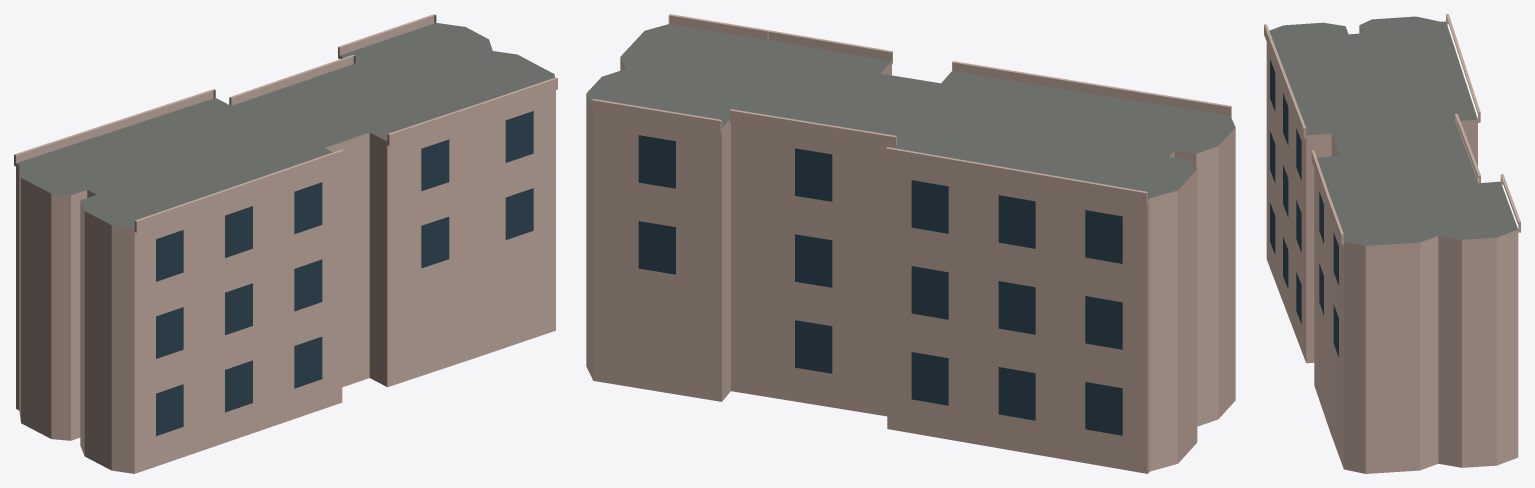
The picture shows the model from 3 angles, left to right: view 1: azimuth 30°, elevation 25°; view 2: azimuth 150°, elevation 25°; view 3: azimuth 270°, elevation 25°; orthographic projection. The views are drawn at different scales.
Visible parts, largest first — view 1: Footprint 0 / surface 2, Footprint 0 / surface 1, Inset glazing, Facade bay volumes; view 2: Footprint 0 / surface 2, Footprint 0 / surface 1, Inset glazing, Facade bay volumes; view 3: Footprint 0 / surface 2, Footprint 0 / surface 1, Inset glazing, Facade bay volumes.
Boxes of the visible parts, bbox=[...] form: Footprint 0 / surface 2: bbox=[16, 56, 555, 473]; Footprint 0 / surface 1: bbox=[16, 23, 554, 228]; Inset glazing: bbox=[156, 111, 533, 436]; Facade bay volumes: bbox=[14, 14, 557, 232]; Footprint 0 / surface 2: bbox=[586, 57, 1235, 473]; Footprint 0 / surface 1: bbox=[586, 24, 1235, 200]; Inset glazing: bbox=[638, 135, 1122, 435]; Facade bay volumes: bbox=[592, 14, 1231, 205]; Footprint 0 / surface 2: bbox=[1266, 25, 1518, 473]; Footprint 0 / surface 1: bbox=[1269, 16, 1517, 245]; Inset glazing: bbox=[1270, 59, 1338, 357]; Facade bay volumes: bbox=[1264, 14, 1520, 244].
Size of the model in its own units: 23.6 by 11.28 by 11.16.
